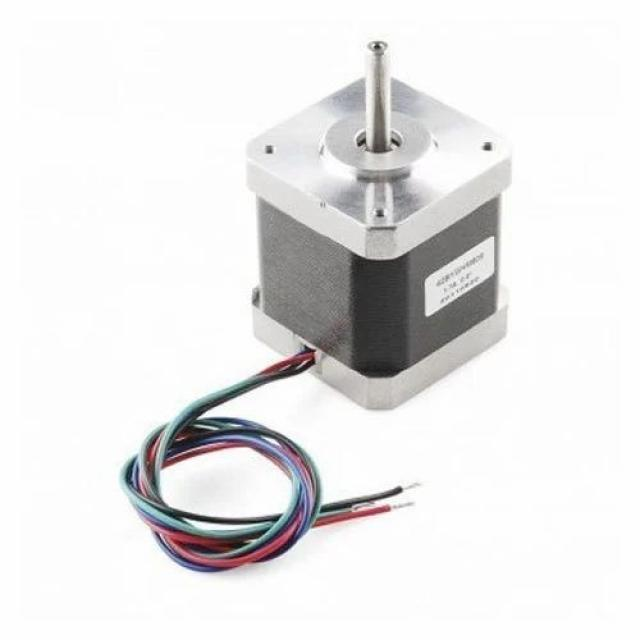motor: (244, 40, 514, 405)
